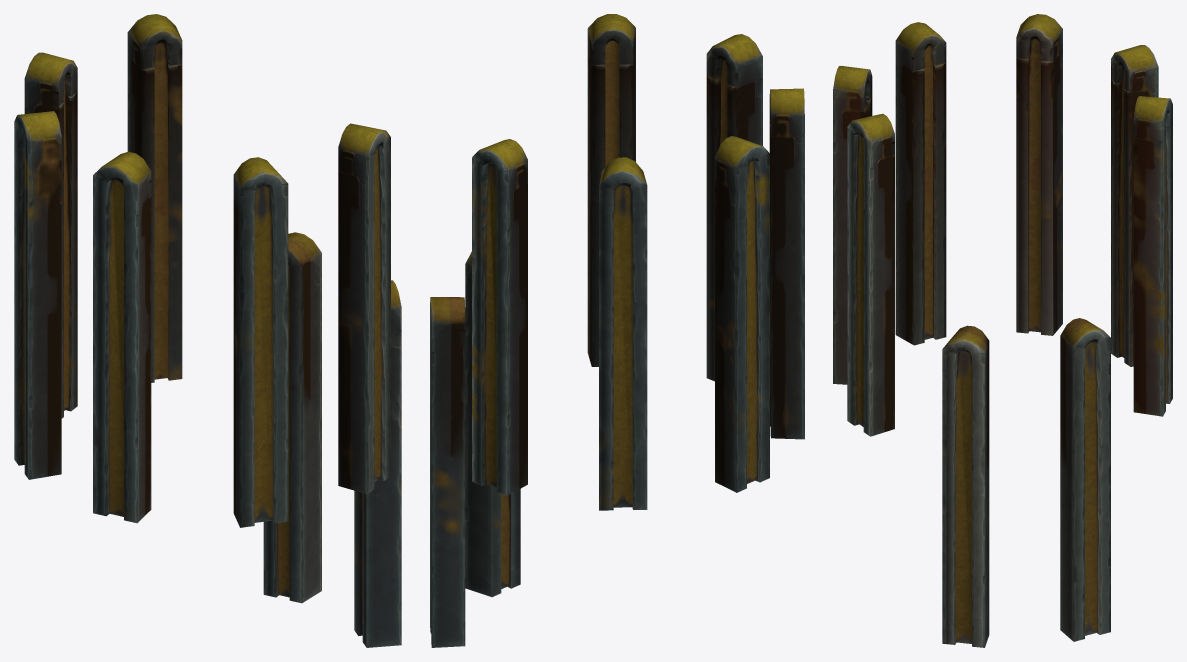
The model's file is SM_Pillar_02.glb.
3 views of the same model, side by side, from view 1: azimuth 30°, elevation 25°; view 2: azimuth 150°, elevation 25°; view 3: azimuth 270°, elevation 25° (orthographic). The views are drawn at different scales.
Visible parts, largest first — view 1: SM_Pillar_02; view 2: SM_Pillar_02; view 3: SM_Pillar_02.
Part boxes in pixels (left/top/right/bottom): SM_Pillar_02: left=14, top=14, right=401, bottom=647; SM_Pillar_02: left=430, top=14, right=804, bottom=647; SM_Pillar_02: left=833, top=14, right=1172, bottom=647.
Bounding box in the file's own units: 15.06 × 24.08 × 15.06.
Materials: 1 (1 with a texture image).
